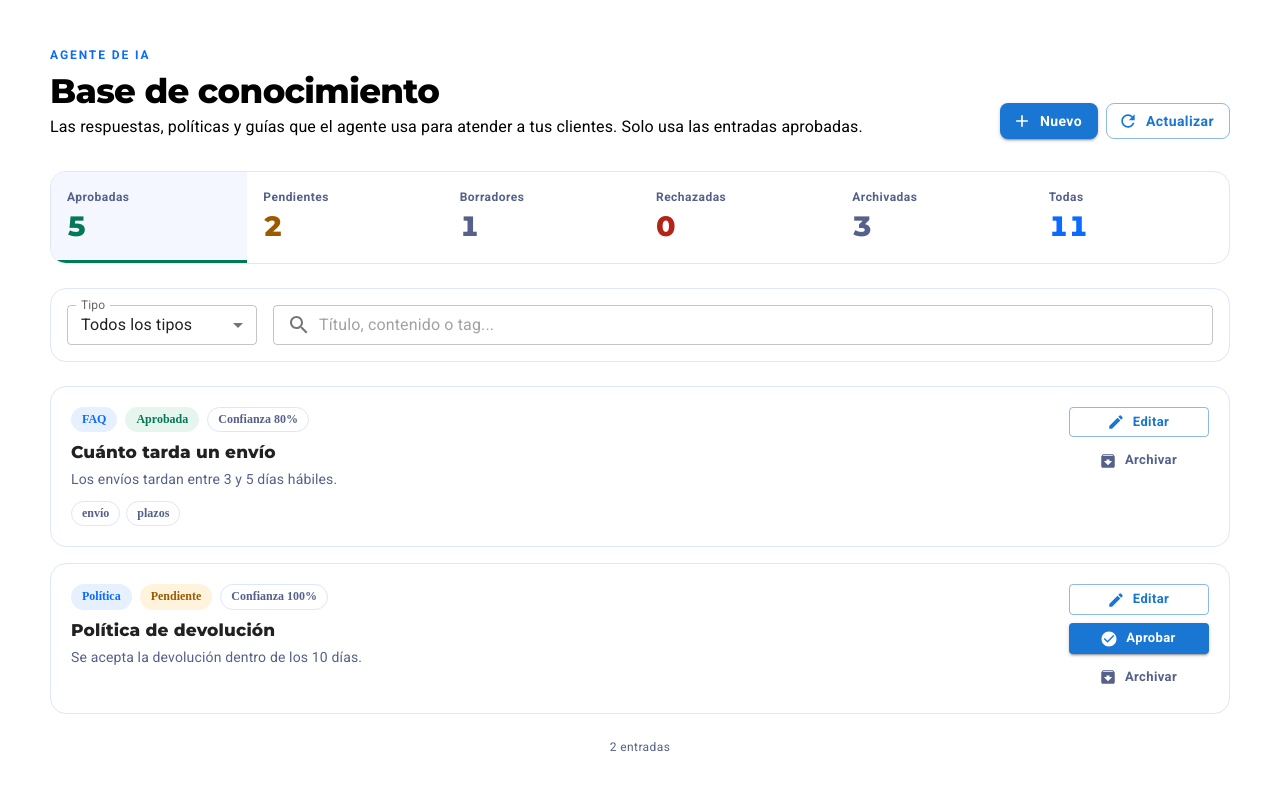
Test: Conocimiento · consulta › mientras se vuelve a consultar, la lista sigue a la vista
This screenshot has width=1280, height=800.
Step 1. Click the button "Actualizar" → (1168, 121), box [1106,102,1230,139]
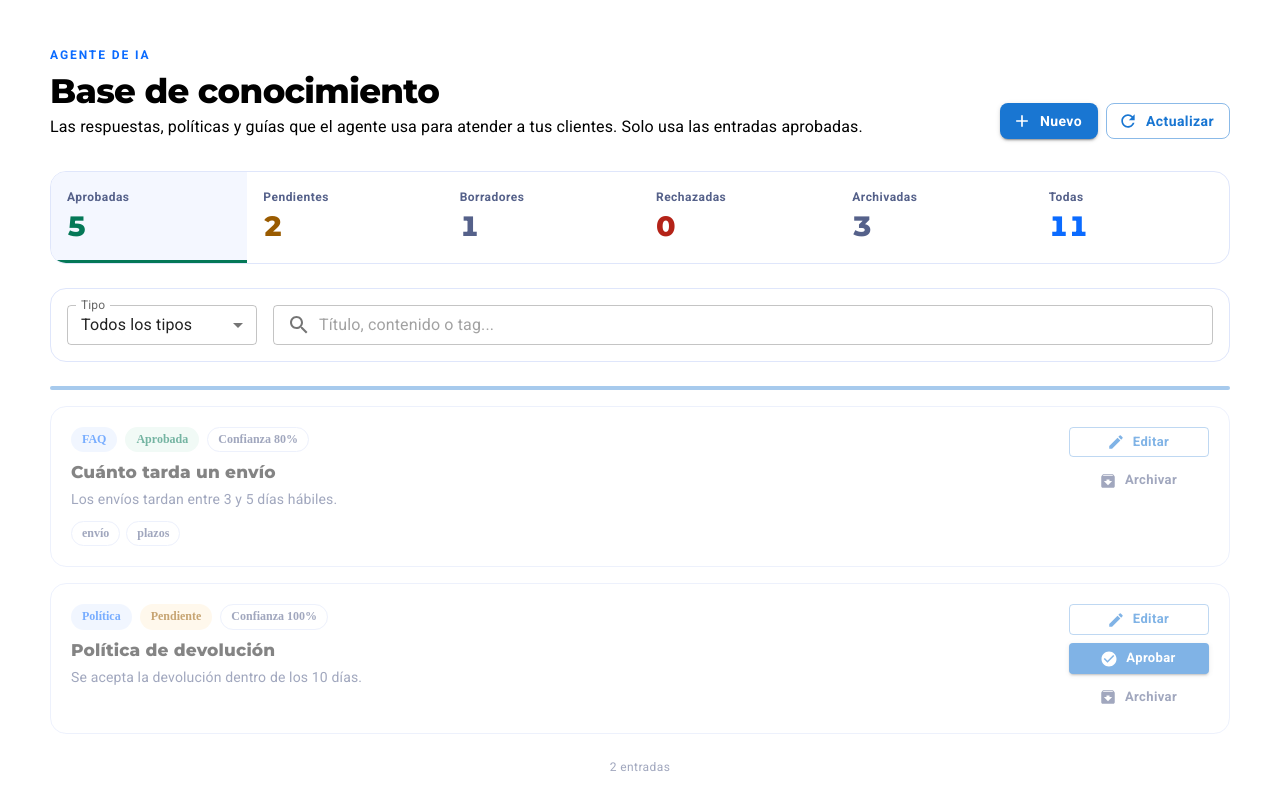
Expected: the text "Cuánto tarda un envío" is shown, [71,462,276,482]
Result: the progress indicator is shown at [50,386,1230,390]
